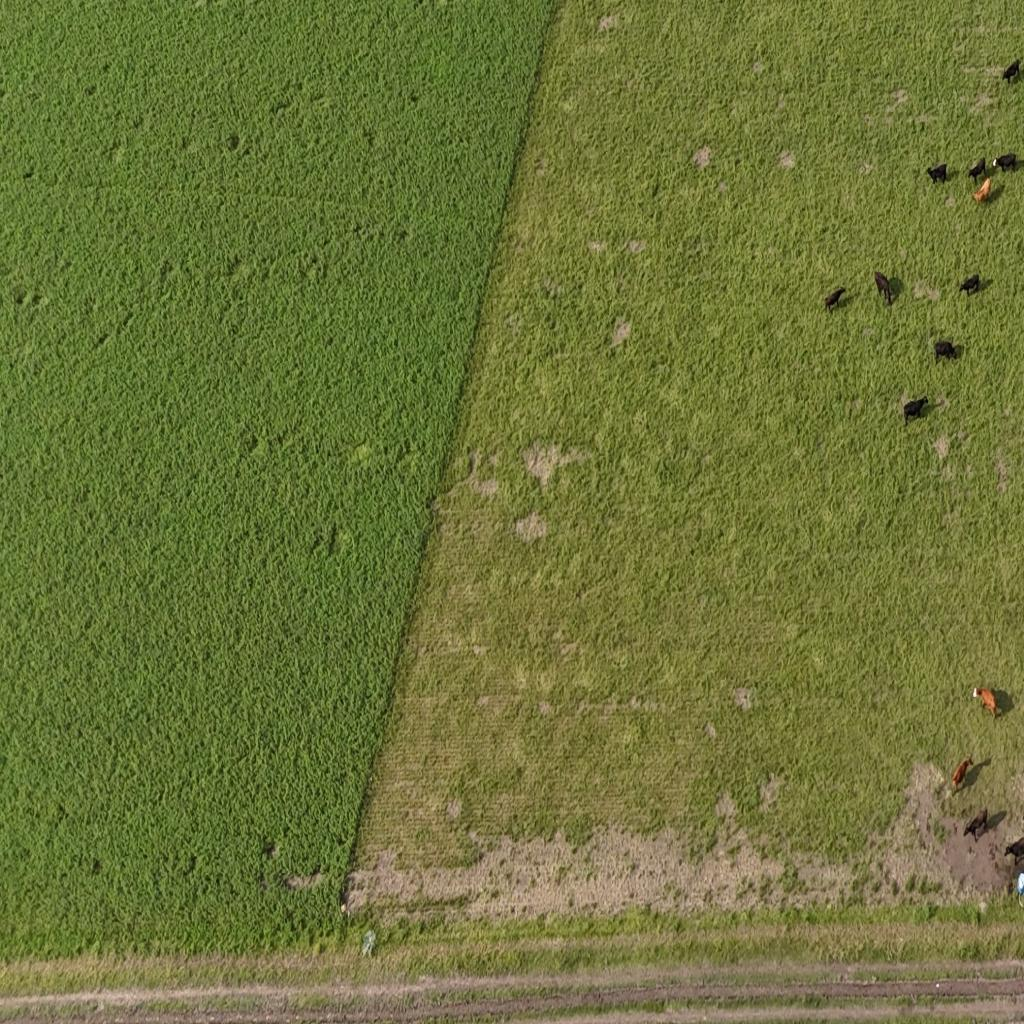cow: (966, 687, 998, 730), (963, 808, 989, 844), (951, 754, 973, 794), (874, 272, 897, 308), (1002, 836, 1024, 870), (904, 396, 928, 424), (934, 339, 958, 363), (992, 152, 1018, 174), (824, 287, 845, 312), (968, 157, 987, 184), (926, 163, 948, 185), (974, 177, 992, 203), (1002, 60, 1020, 85), (960, 274, 980, 296)
